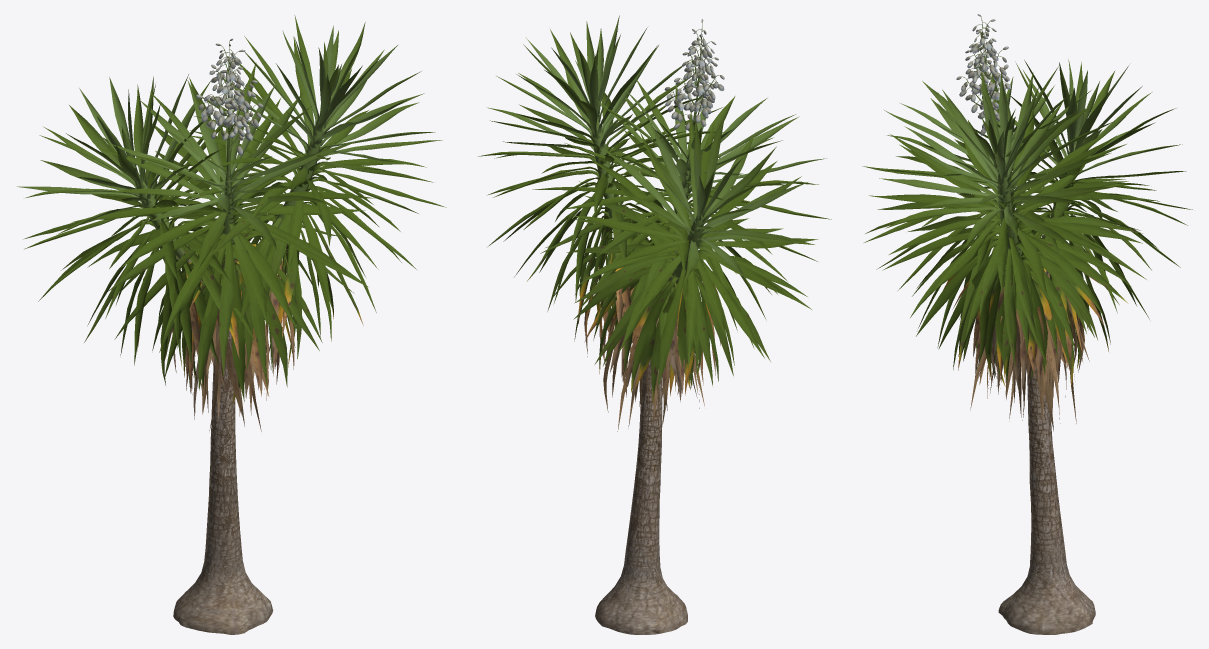
Rendered from yucca_tall.glb.
3 views of the same model, side by side, from view 1: azimuth 30°, elevation 25°; view 2: azimuth 150°, elevation 25°; view 3: azimuth 270°, elevation 25° (orthographic). The views are drawn at different scales.
Parts seen in each view (by area): view 1: Yucca_elephantipes_HD; view 2: Yucca_elephantipes_HD; view 3: Yucca_elephantipes_HD.
Part boxes in pixels (x1,y1,x2,y2): Yucca_elephantipes_HD: (17, 15, 446, 634); Yucca_elephantipes_HD: (478, 15, 831, 634); Yucca_elephantipes_HD: (862, 14, 1192, 634).
Size of the model in its own units: 1.39 by 2.21 by 1.14.
12 materials, 12 textured.
